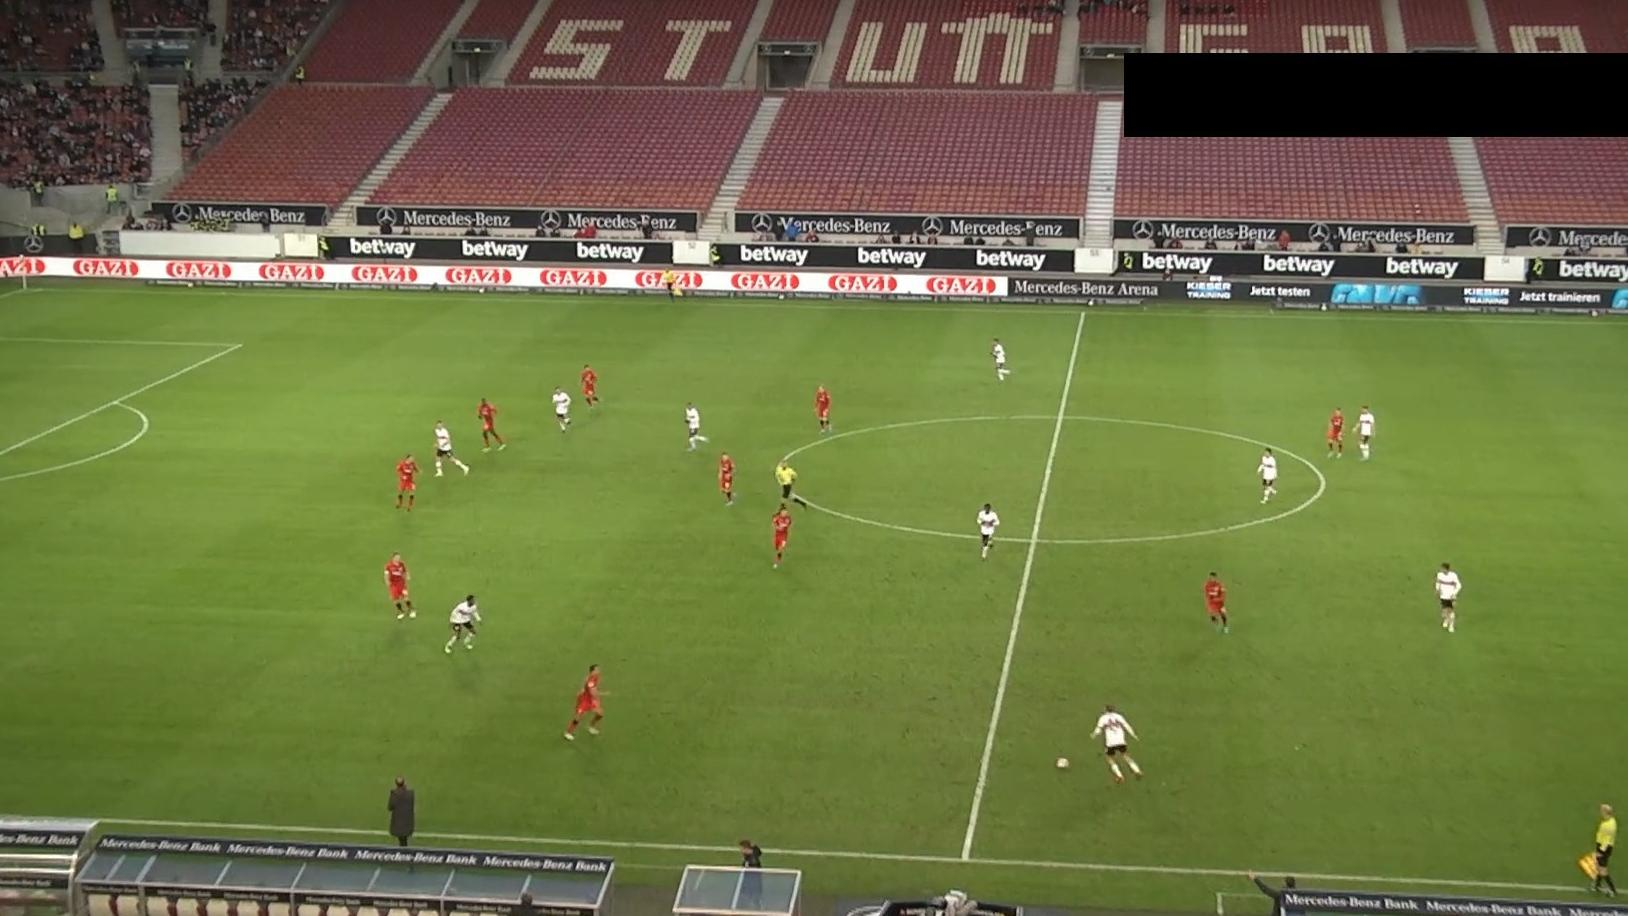ball: (1054, 756, 1071, 772)
